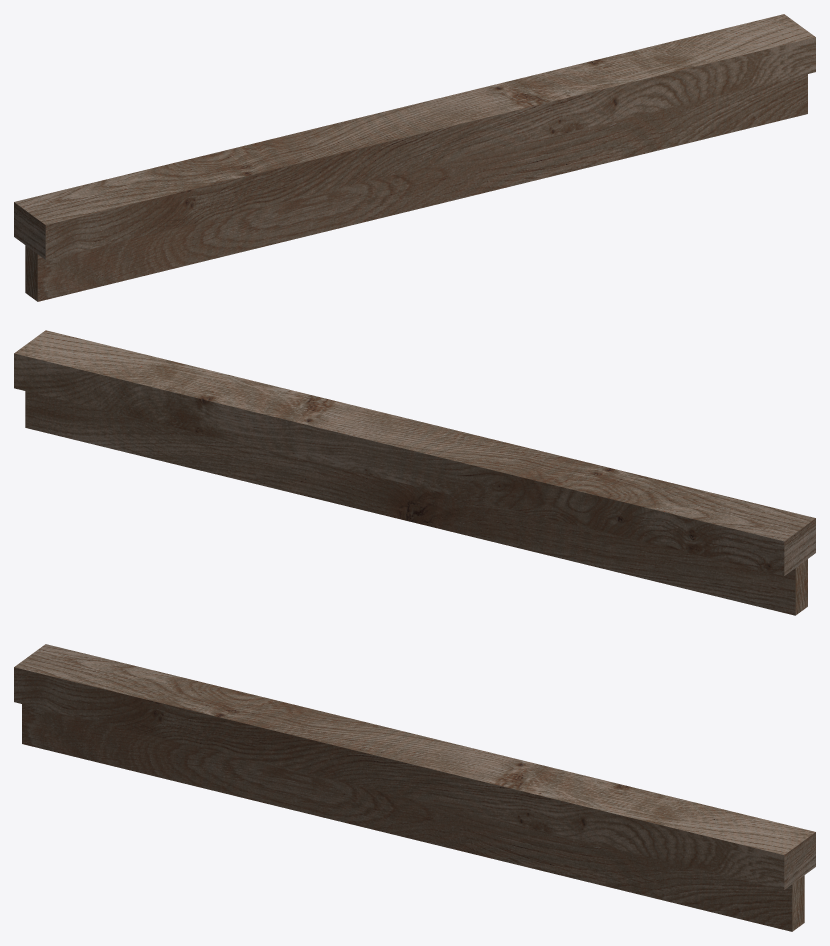
Rendered from SM_Sun_Kak_Dori_A.fbx.
3 renders of one model, top to bottom at view 1: azimuth 30°, elevation 25°; view 2: azimuth 150°, elevation 25°; view 3: azimuth 330°, elevation 25°, orthographic.
Visible parts, largest first — view 1: SM_Sun_Kak_Dori_A; view 2: SM_Sun_Kak_Dori_A; view 3: SM_Sun_Kak_Dori_A.
Part boxes in pixels (x1,y1,x2,y2): SM_Sun_Kak_Dori_A: (14, 14, 815, 301); SM_Sun_Kak_Dori_A: (14, 330, 815, 615); SM_Sun_Kak_Dori_A: (14, 644, 815, 931).
Size of the model in its own units: 533 by 54.59 by 38.
